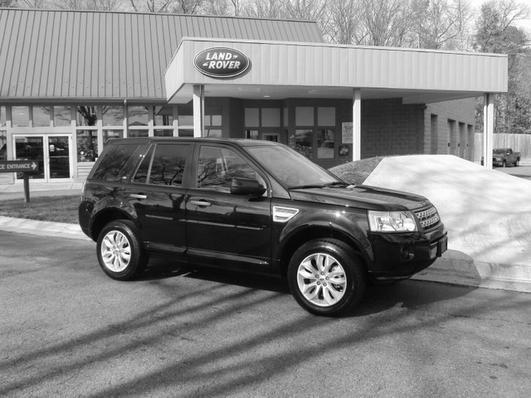car: (79, 139, 447, 317)
